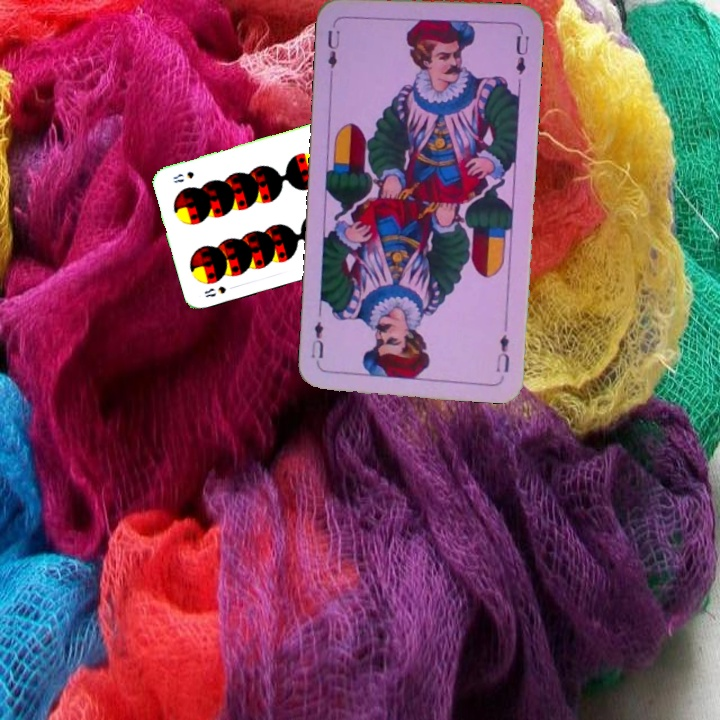EU: (492, 318, 512, 375), (323, 25, 343, 78)
S8: (200, 282, 229, 300)
